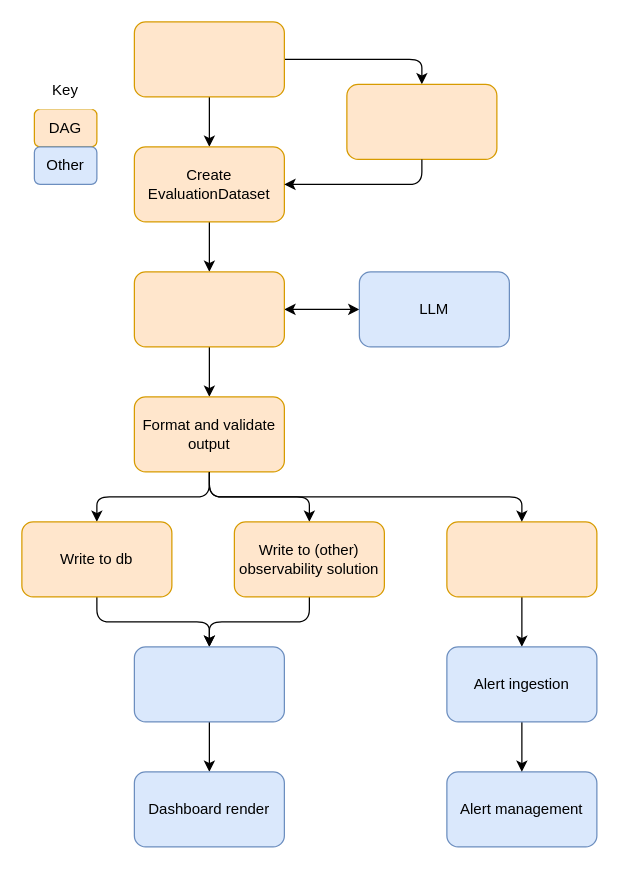
The diagram is 619 pixels wide and 869 high, and some of its shapes have lost their labels. The centre of each missing label's shape, as x and y in pixels:
"Data normalisation/query" goes at point 208,684.
"evaluate()" goes at point 208,309.
"Parse invocations" goes at point 208,59.
"Retrieve expected_outputs" goes at point 421,121.
"Trigger event to queue" goes at point 521,559.
